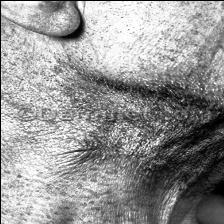Unclassified: (44, 125, 224, 177), (54, 64, 224, 107)
